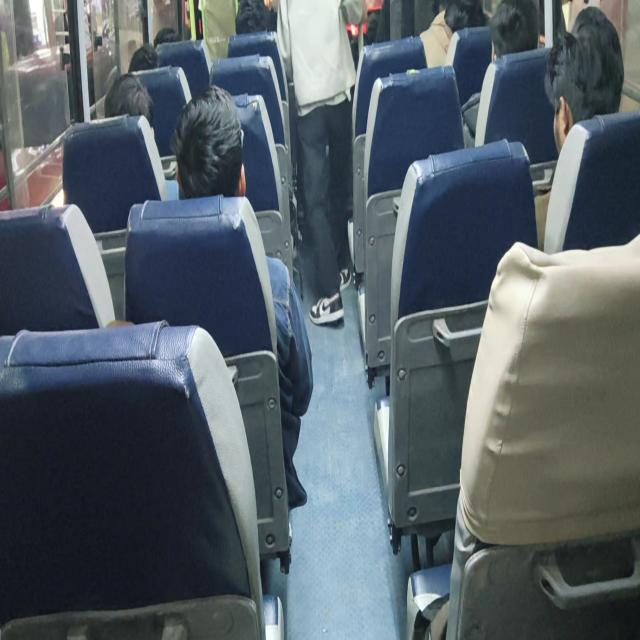person: (170, 84, 314, 509), (276, 0, 366, 326), (532, 5, 625, 250), (461, 0, 540, 147), (418, 0, 486, 68), (104, 72, 155, 132), (199, 0, 238, 64)
